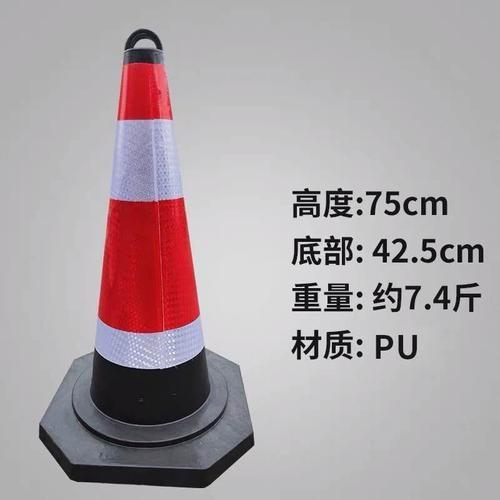cone_barrel: (71, 43, 228, 430)
